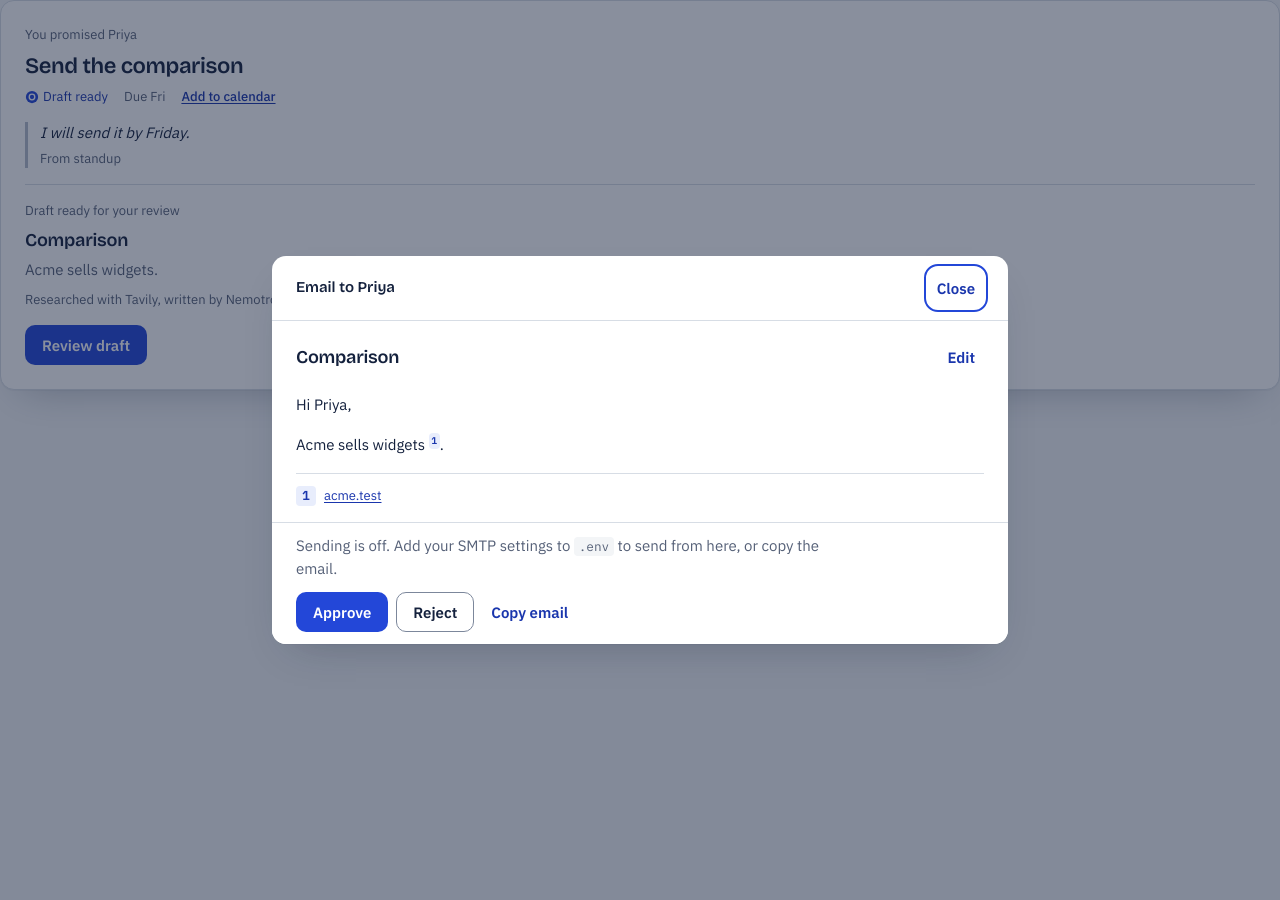
it: Detail draft editing › edits subject and message and saves them
This screenshot has width=1280, height=900.
Click the button "Edit" at [961, 357], box [938,337,984,377]
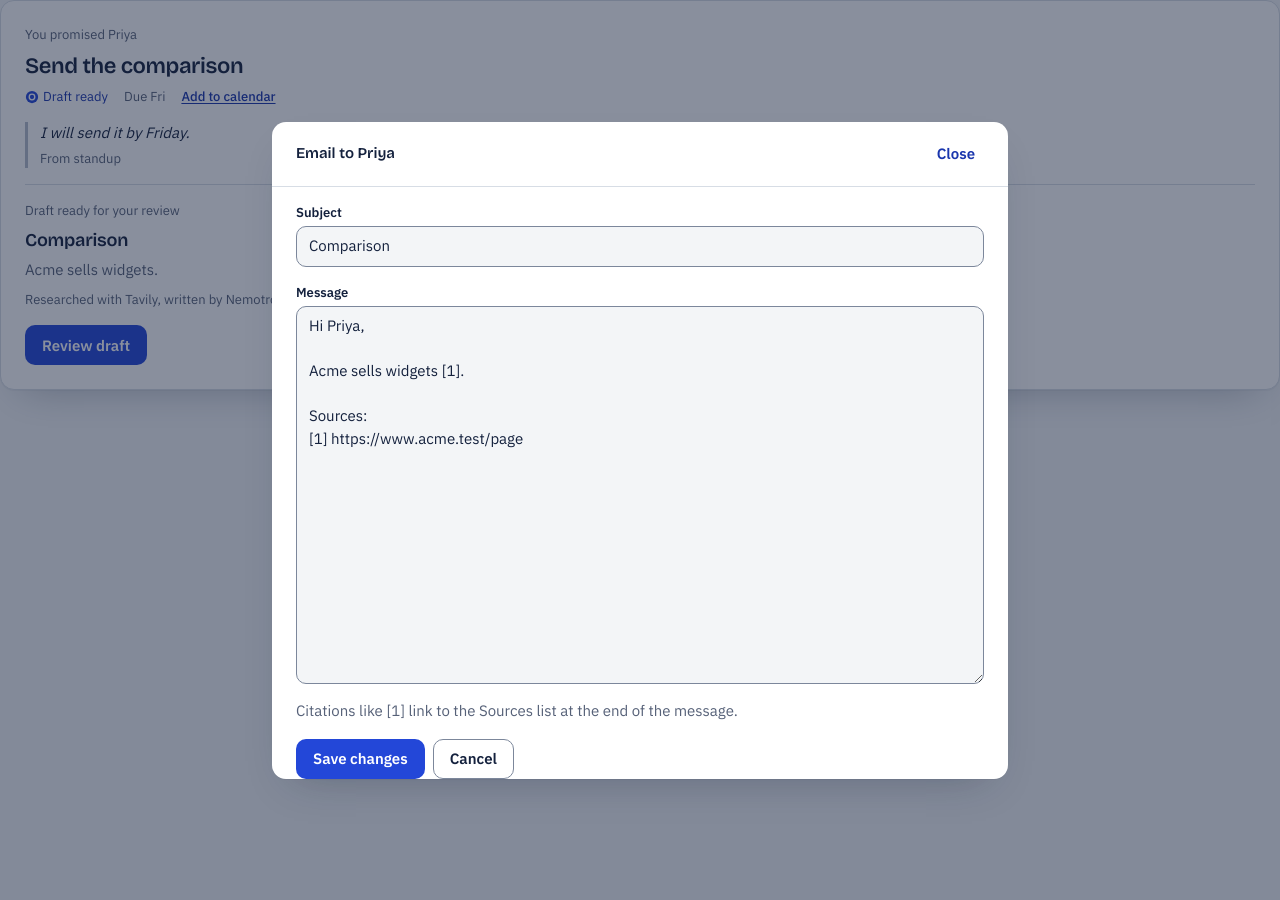
Expected: the field labelled "Subject" holds "Comparison"
Replace the text in the field labelled "Subject" with "Updated subject" at [640, 246], box [296,226,984,266]
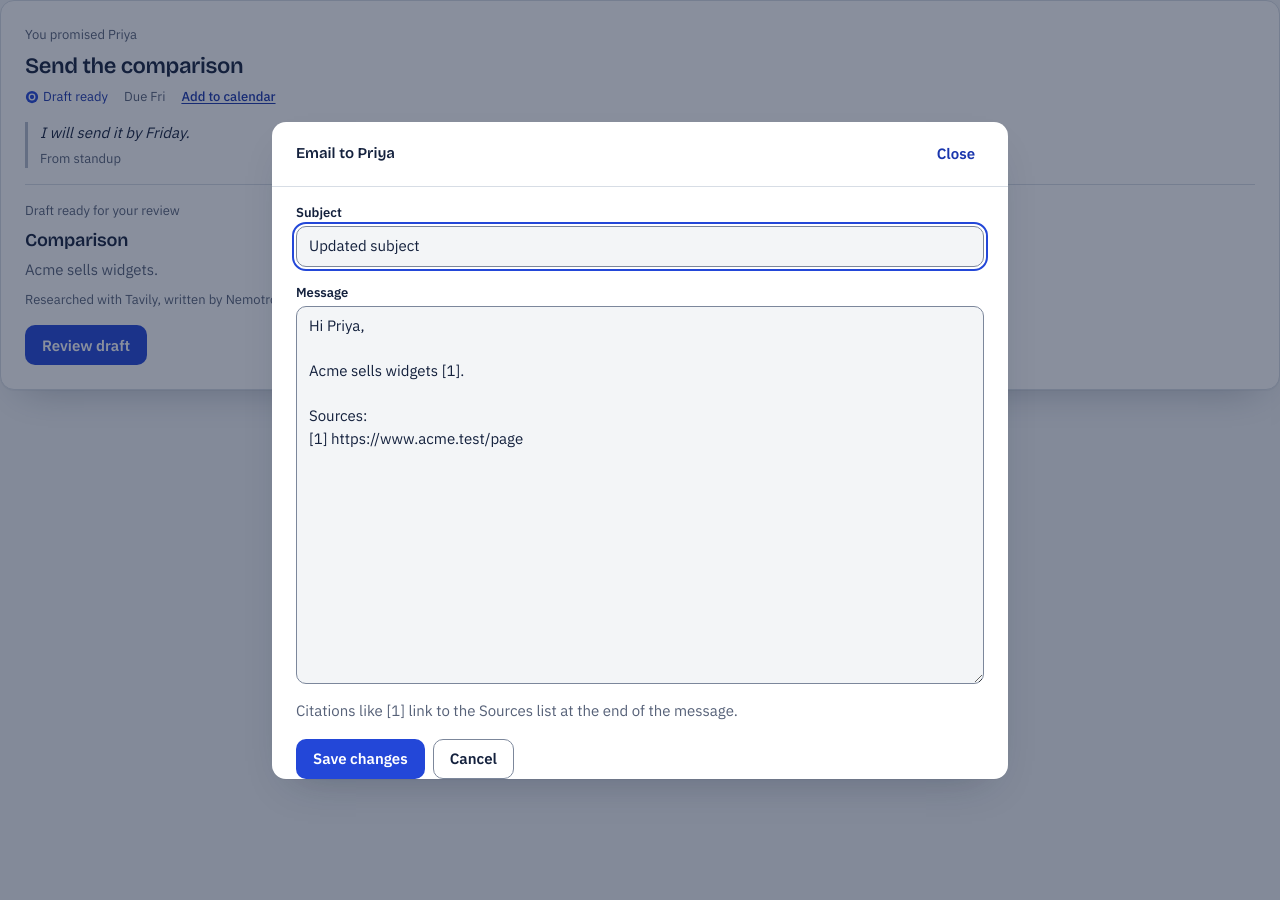
Replace the text in the text box labelled "Message" with "Updated message" at [640, 495], box [296,306,984,684]
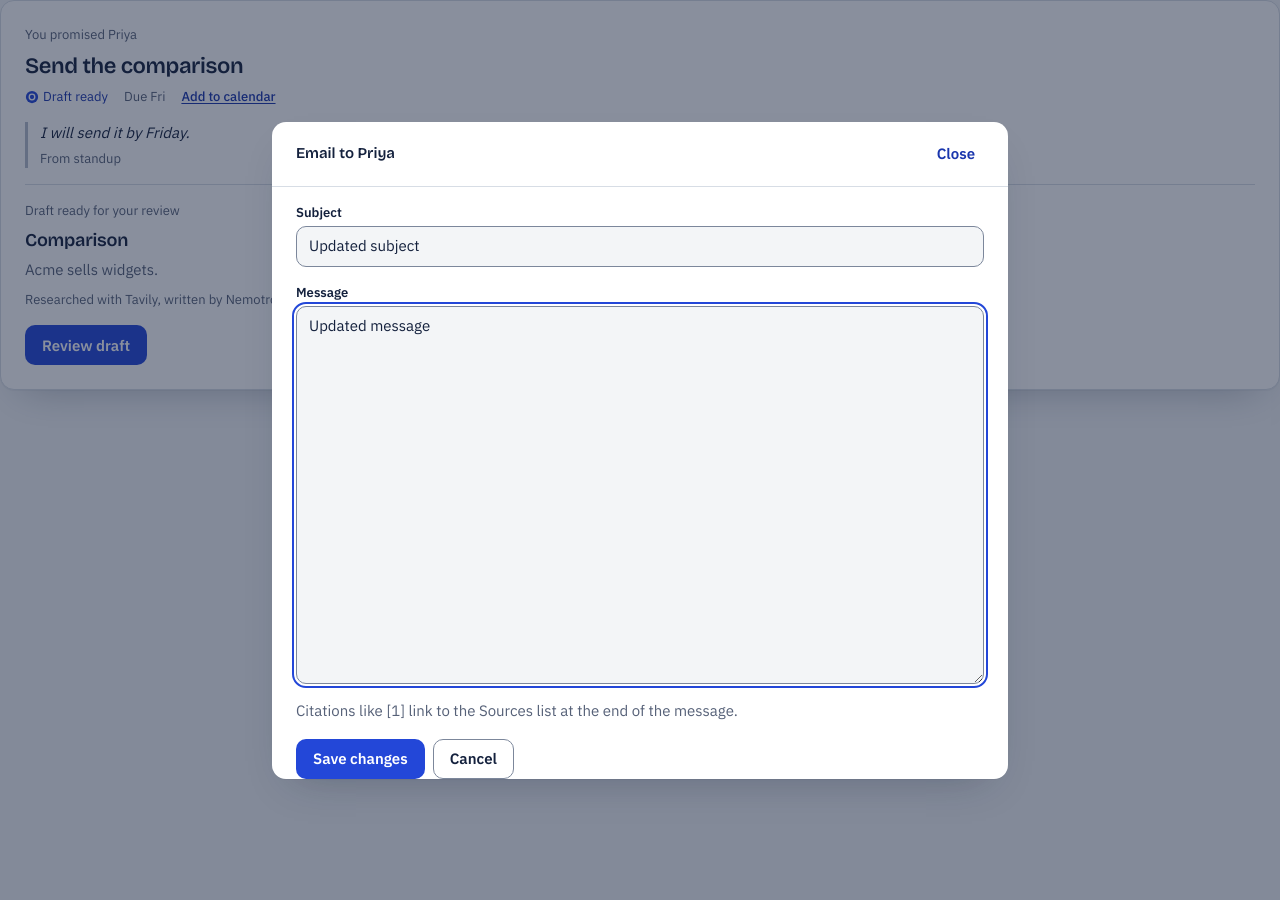
Click the button "Save changes" at [360, 758], box [296,738,425,778]
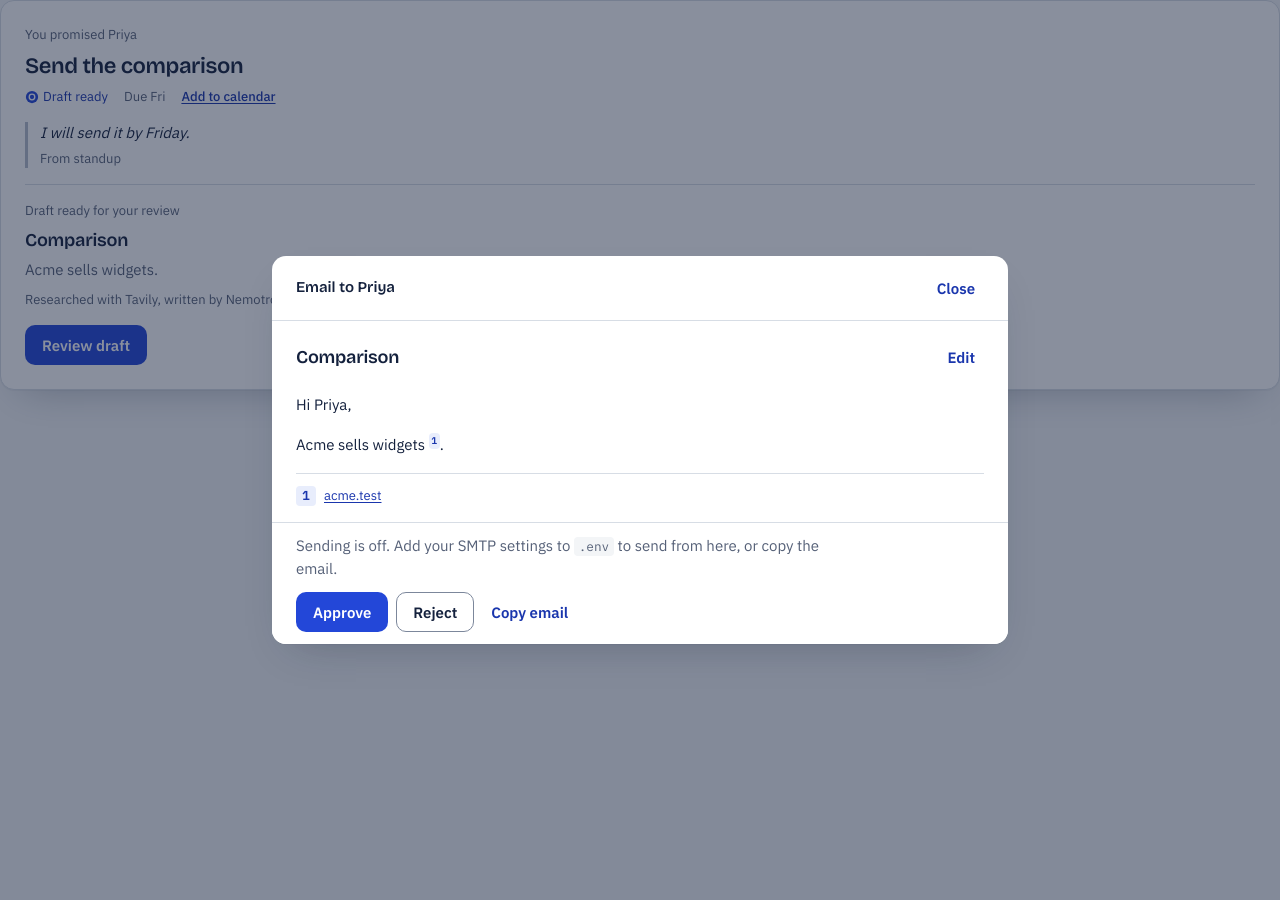
Expected: the button "Edit" is shown, [938,337,984,377]
